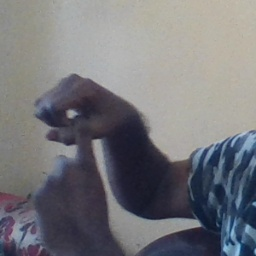Q: (26, 72, 130, 224)
